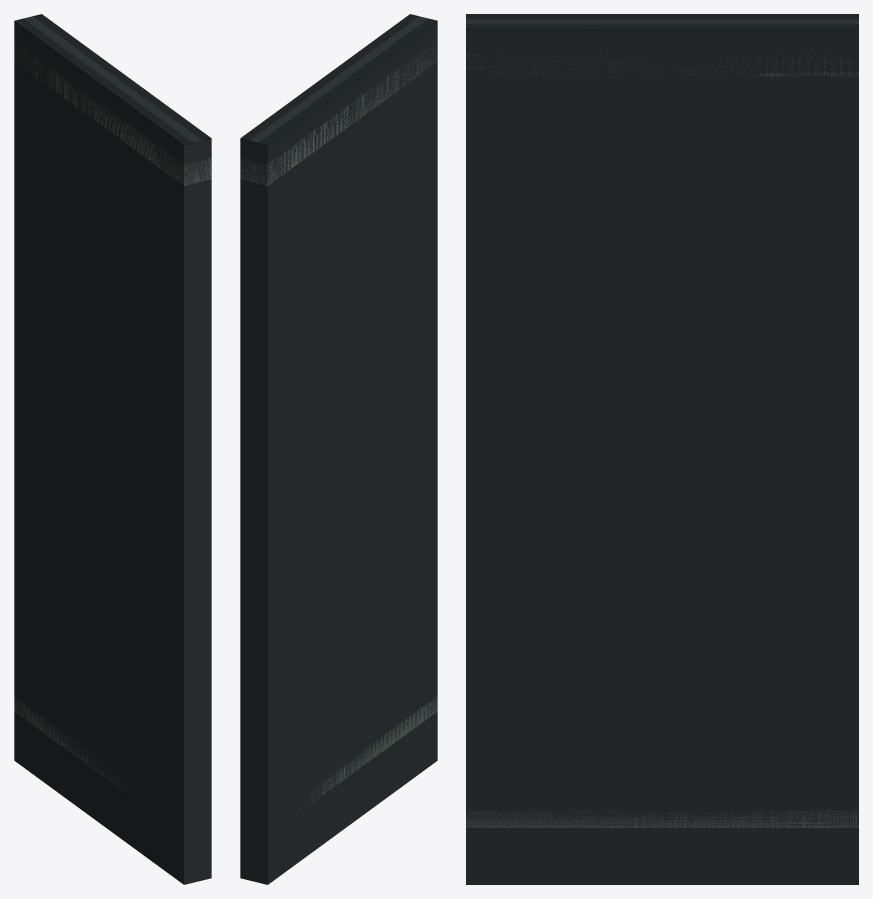
The model's file is CMU3DInteriorVehicleTankFront2.glb.
The picture shows the model from 3 angles, left to right: view 1: azimuth 30°, elevation 25°; view 2: azimuth 150°, elevation 25°; view 3: azimuth 270°, elevation 25°; orthographic projection. The views are drawn at different scales.
Parts seen in each view (by area): view 1: cabin bulkhead, cabin bulkhead source finish, upper armor trim, lower armor trim; view 2: cabin bulkhead, cabin bulkhead source finish, upper armor trim, lower armor trim; view 3: cabin bulkhead, cabin bulkhead source finish, lower armor trim.
Boxes of the visible parts, <box> form: cabin bulkhead: <box>14,22,211,884</box>; cabin bulkhead source finish: <box>14,14,211,145</box>; upper armor trim: <box>14,41,211,185</box>; lower armor trim: <box>14,696,140,802</box>; cabin bulkhead: <box>240,22,437,884</box>; cabin bulkhead source finish: <box>240,14,437,145</box>; upper armor trim: <box>240,41,437,185</box>; lower armor trim: <box>300,696,437,810</box>; cabin bulkhead: <box>466,30,858,884</box>; cabin bulkhead source finish: <box>466,14,858,30</box>; lower armor trim: <box>466,810,858,827</box>.
Bounding box in the file's own units: 0.0938 × 2.4 × 1.
Materials: 4 (1 with a texture image).
